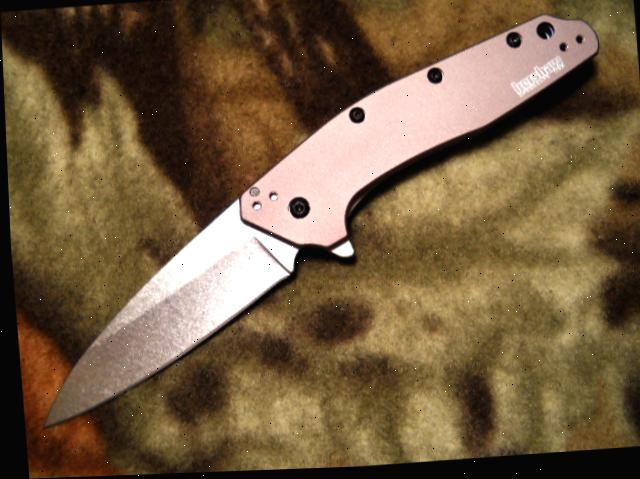pocket-knife: (12, 9, 624, 440)
